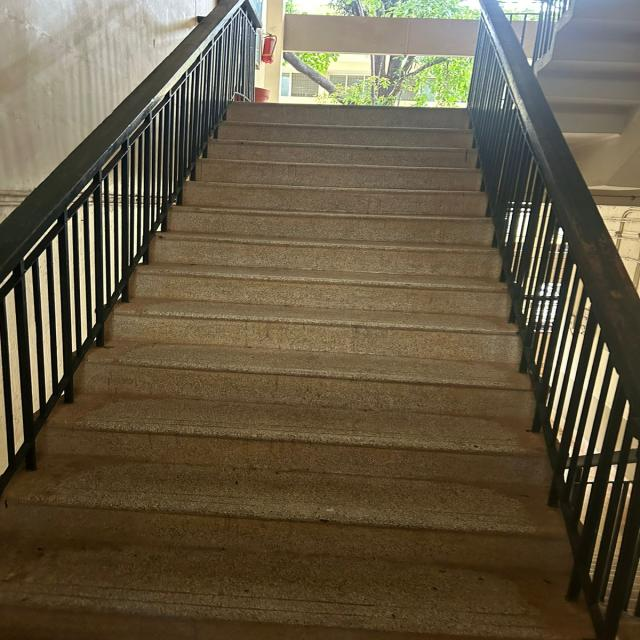stairs ahead at: (0, 99, 599, 635)
